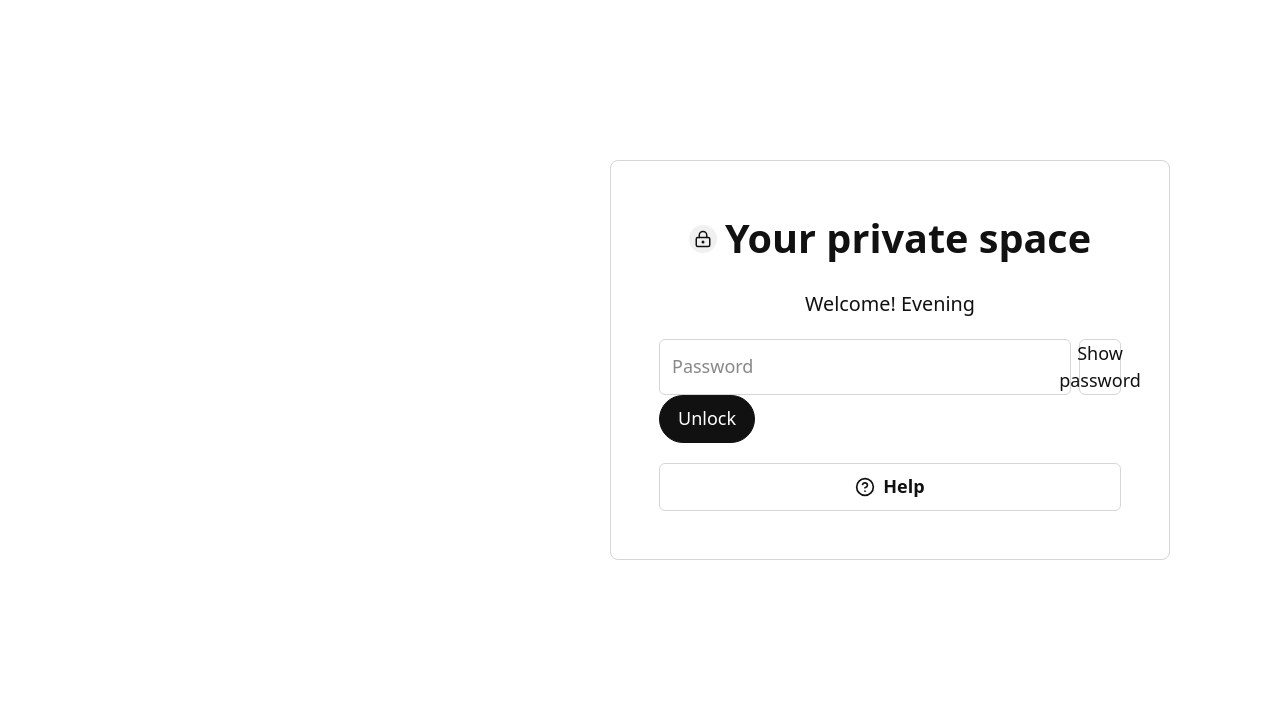
Test: lock page › shows failed unlocks and advances the lockout countdown
This screenshot has width=1280, height=720.
Type "incorrect-password" into the password field labelled "Password" at [865, 366], box left=659, top=338, right=1071, bottom=394
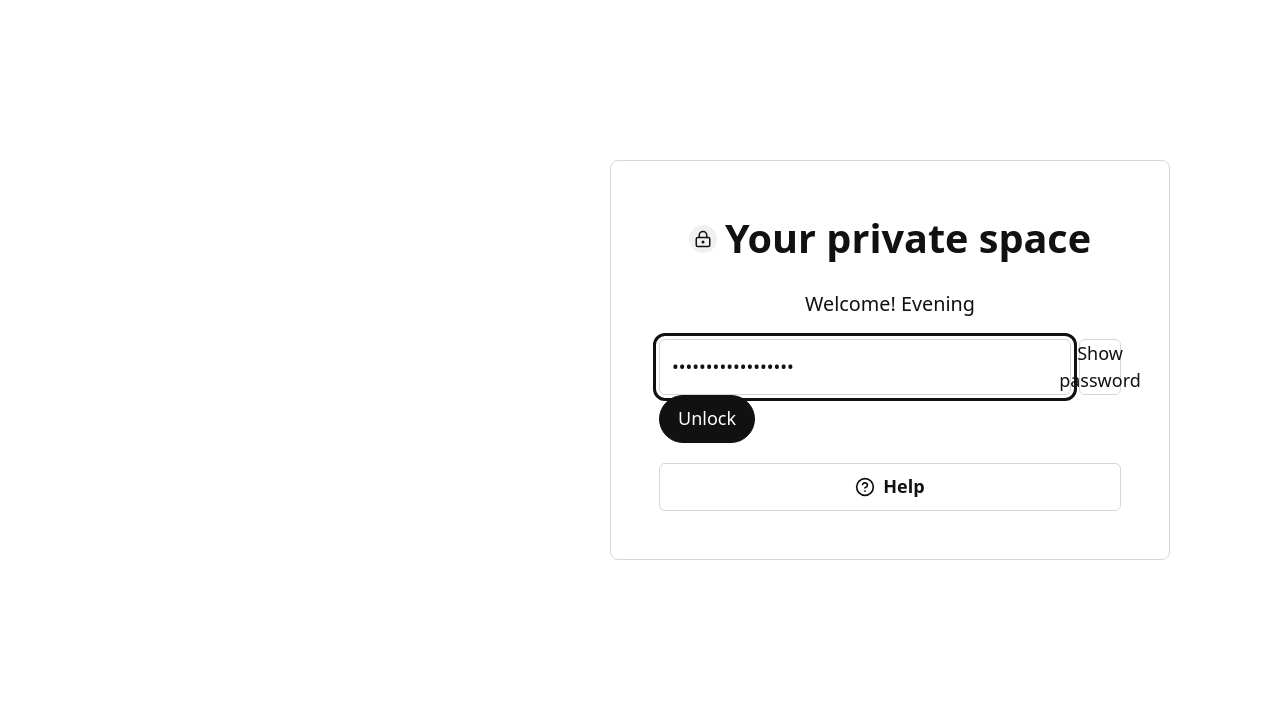
Click the button "Unlock" at [707, 418], box left=659, top=394, right=755, bottom=442
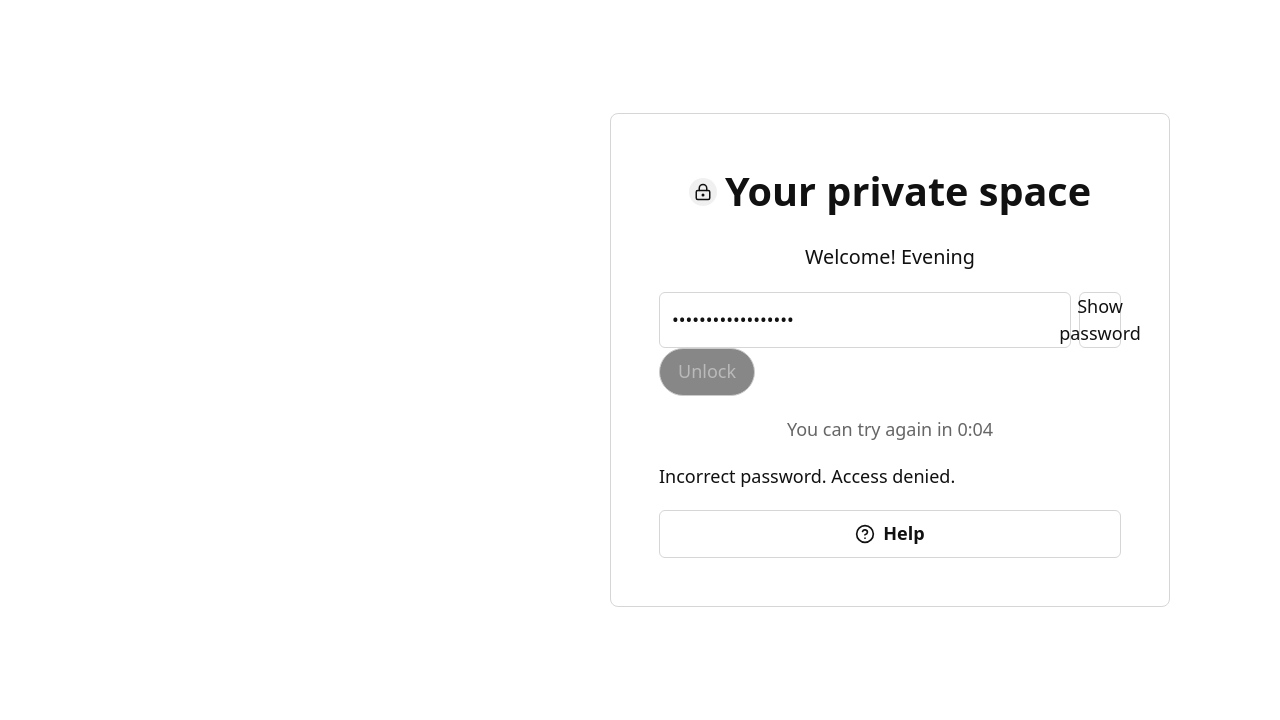
Expected: the message shows "Incorrect password", left=659, top=464, right=955, bottom=488
Expected: the button "Unlock" is disabled, left=659, top=348, right=755, bottom=396
Expected: the text "You can try again in 0:04" is shown, left=787, top=416, right=993, bottom=440
